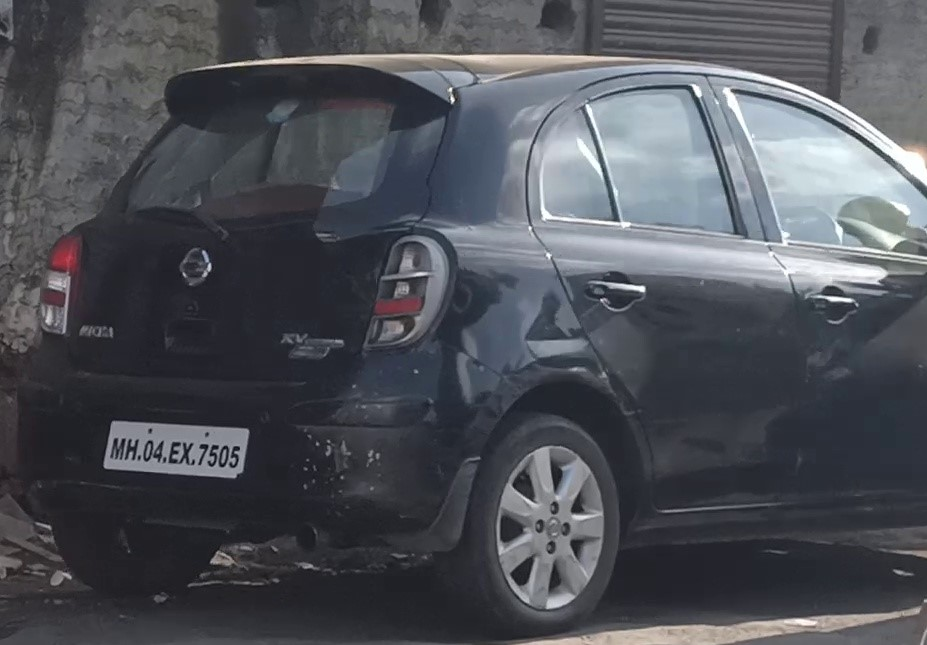MH04EX7505: (101, 417, 249, 479)
